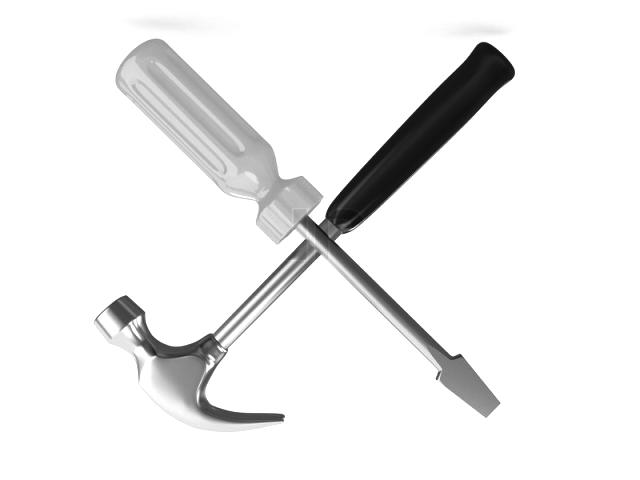Hammer: (92, 39, 516, 433)
Screwdriver: (113, 36, 502, 418)
